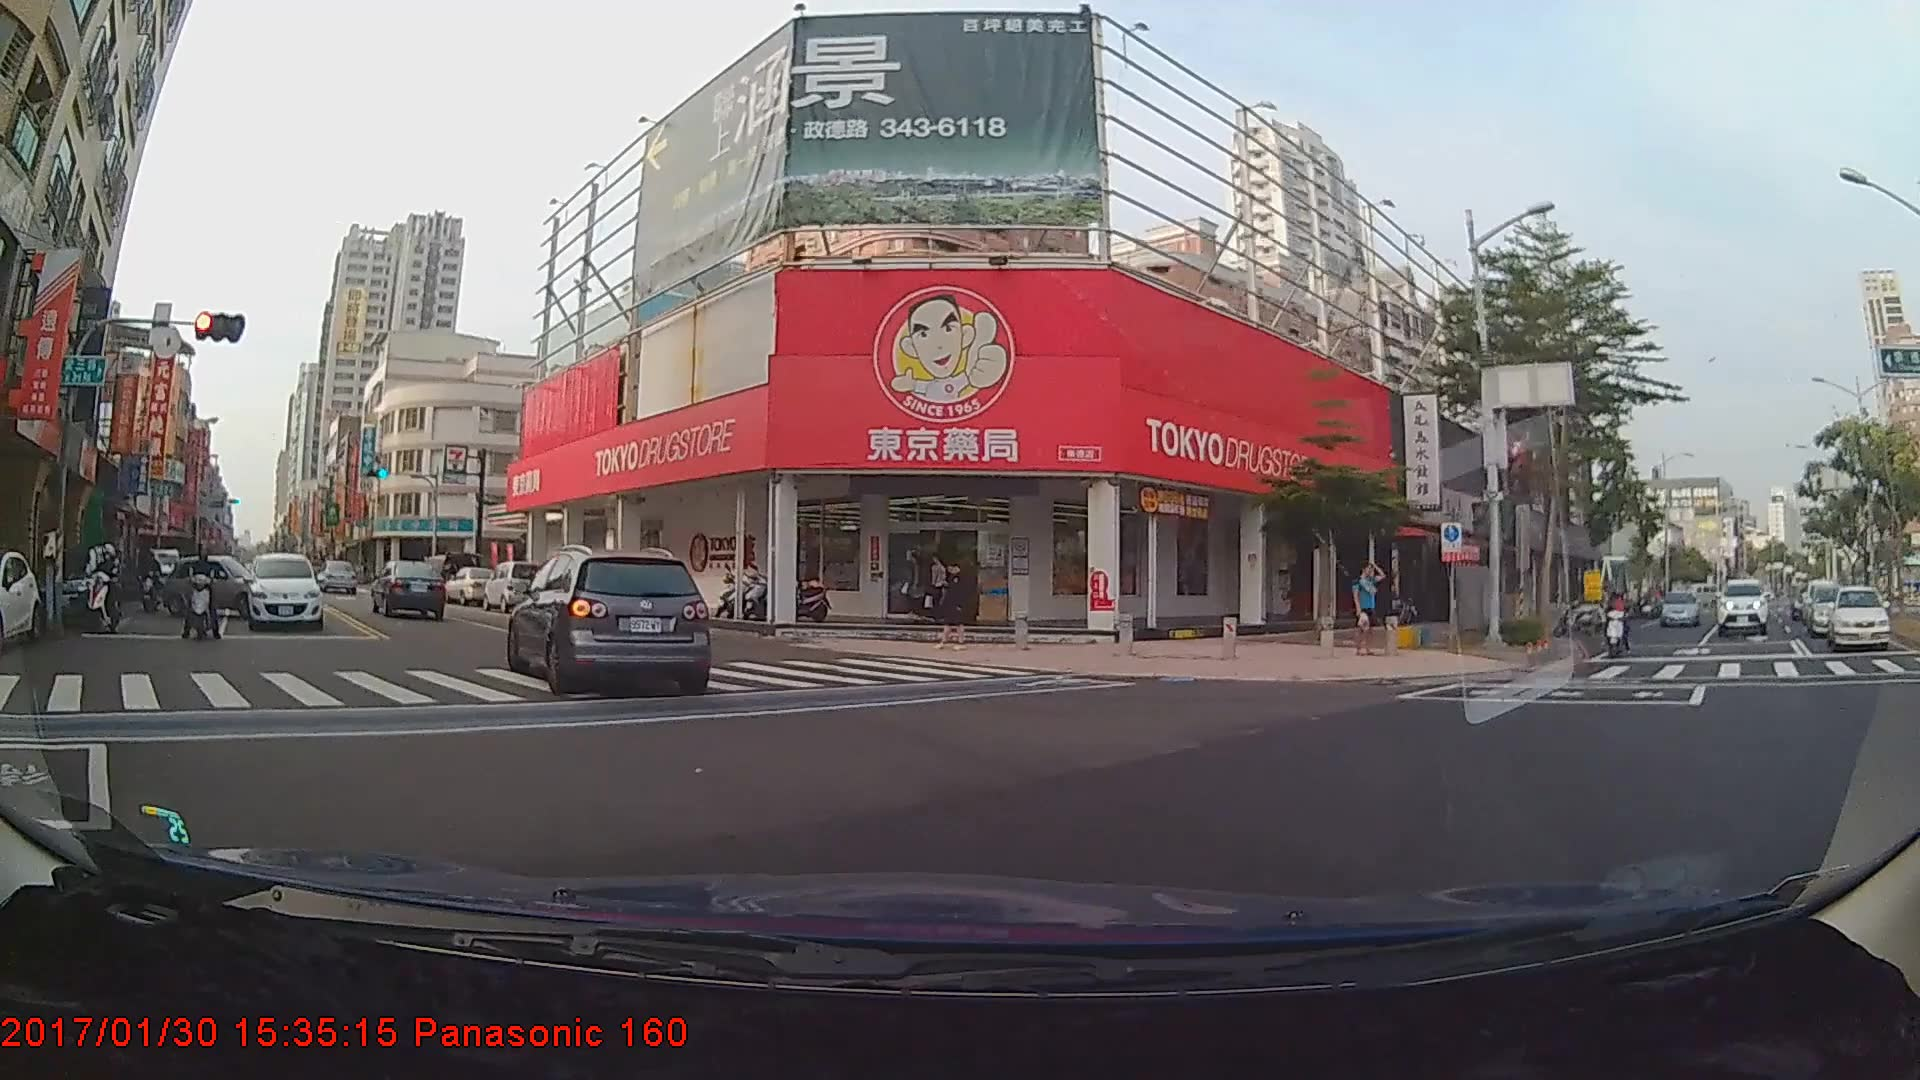pedestrian: (936, 563, 977, 655), (1354, 559, 1390, 663), (901, 550, 933, 627)
rider: (178, 549, 227, 650), (80, 546, 131, 638), (1599, 588, 1637, 658)
vehicle: (510, 549, 706, 693), (160, 554, 271, 618), (244, 556, 324, 635), (373, 558, 445, 619), (1830, 587, 1891, 651), (480, 560, 546, 614), (1805, 581, 1867, 637), (1718, 577, 1767, 634), (442, 566, 502, 605), (1659, 590, 1701, 627)
